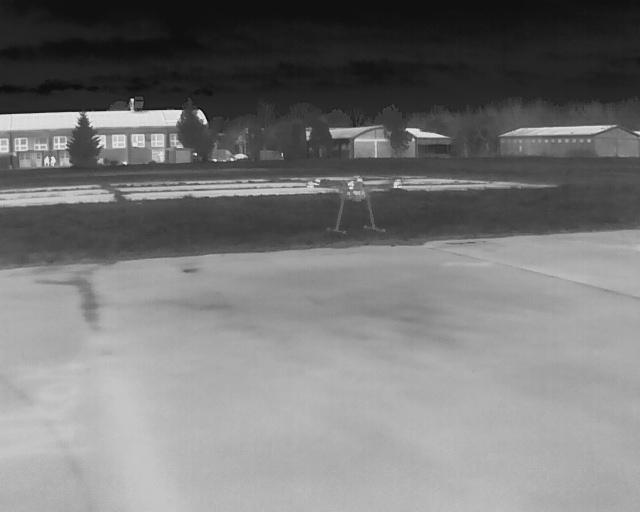drone: (293, 168, 412, 236)
